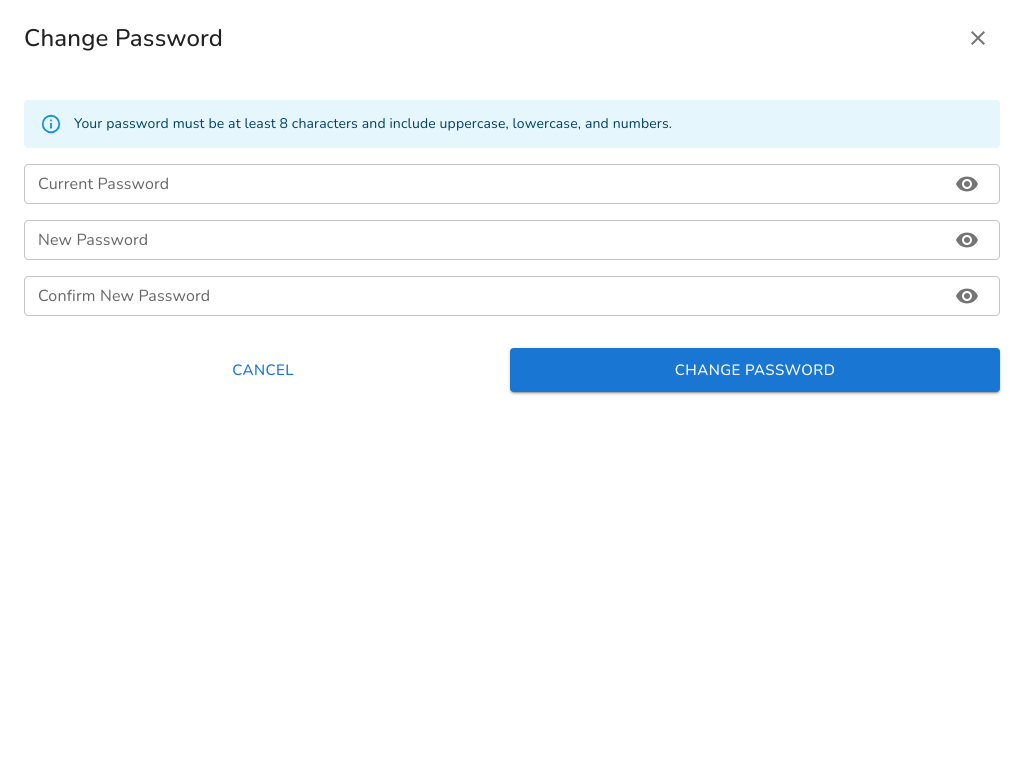
Scenario: ChangePasswordDialog › Mobile Viewport - lines 173-314 › should show mobile-sized CircularProgress when saving - line 314
The width and height of the screenshot is (1024, 768).
Type "OldPass123" into the password field labelled "Current Password" at (480, 184), box [24,164,937,204]
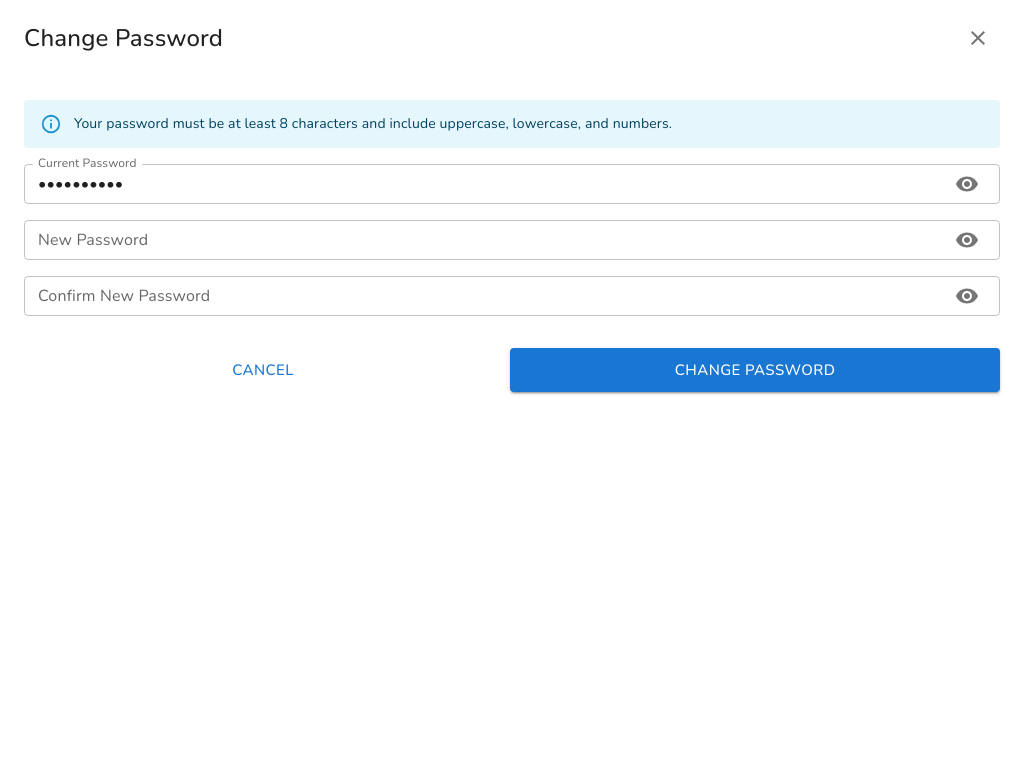
Type "NewPass123" into the password field labelled "New Password" at (480, 240), box [24,220,937,260]
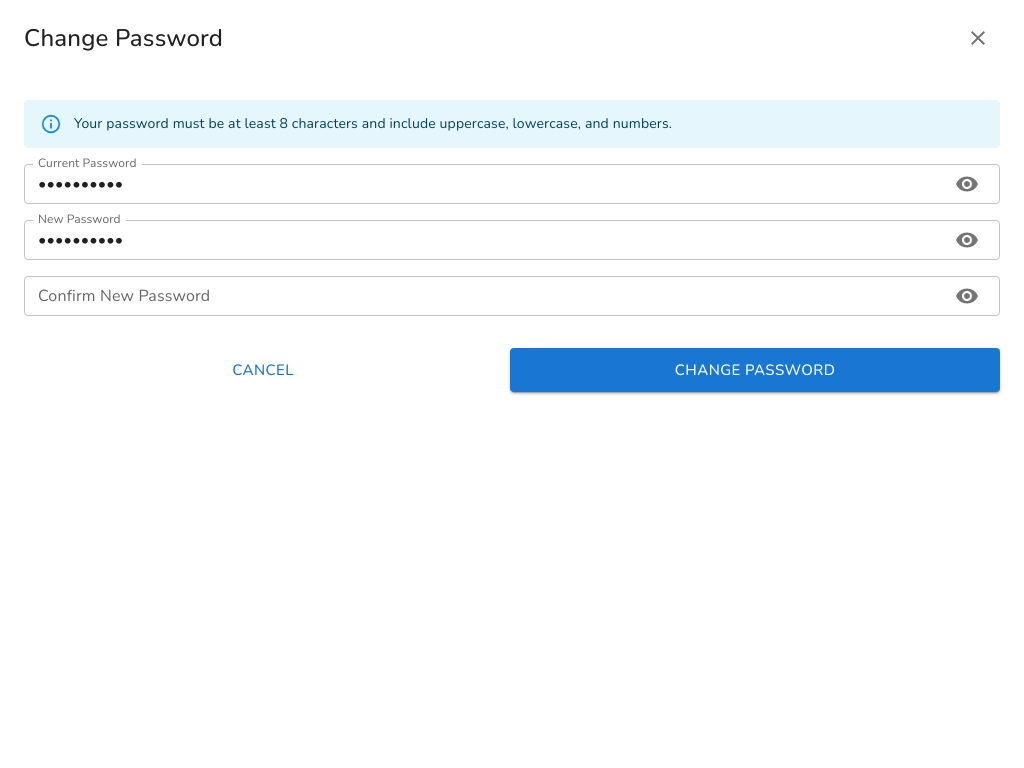
Type "NewPass123" into the password field labelled "Confirm New Password" at (480, 296), box [24,276,937,316]
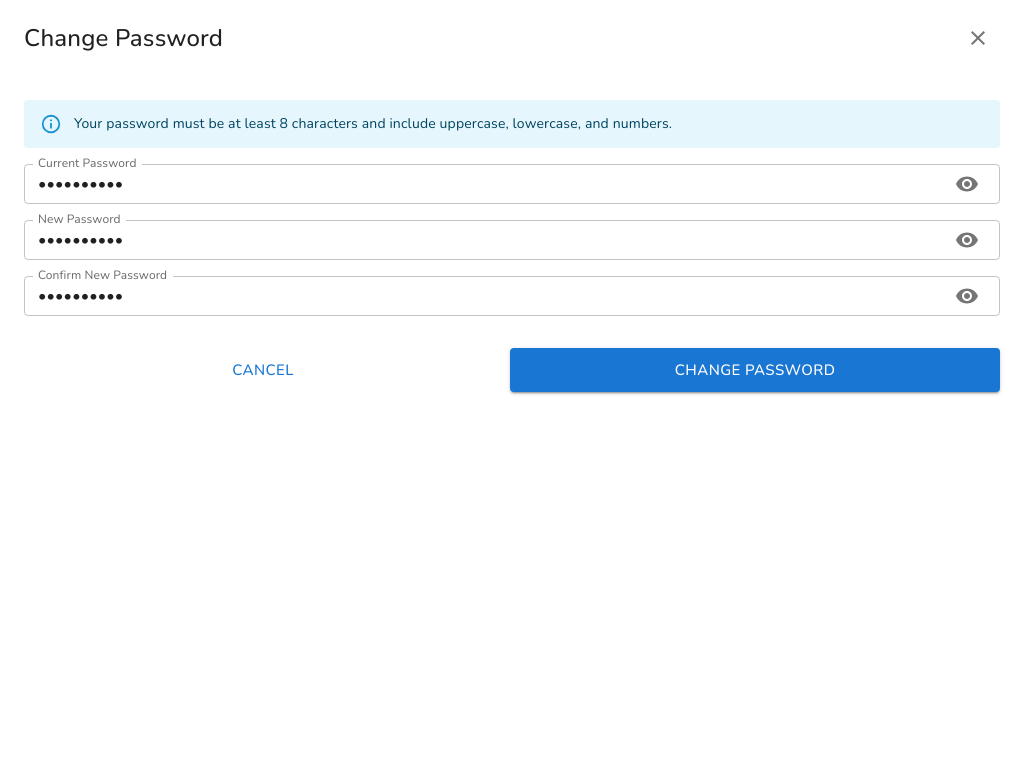
Click the button "Change Password" at (755, 370), box [510,348,1000,392]
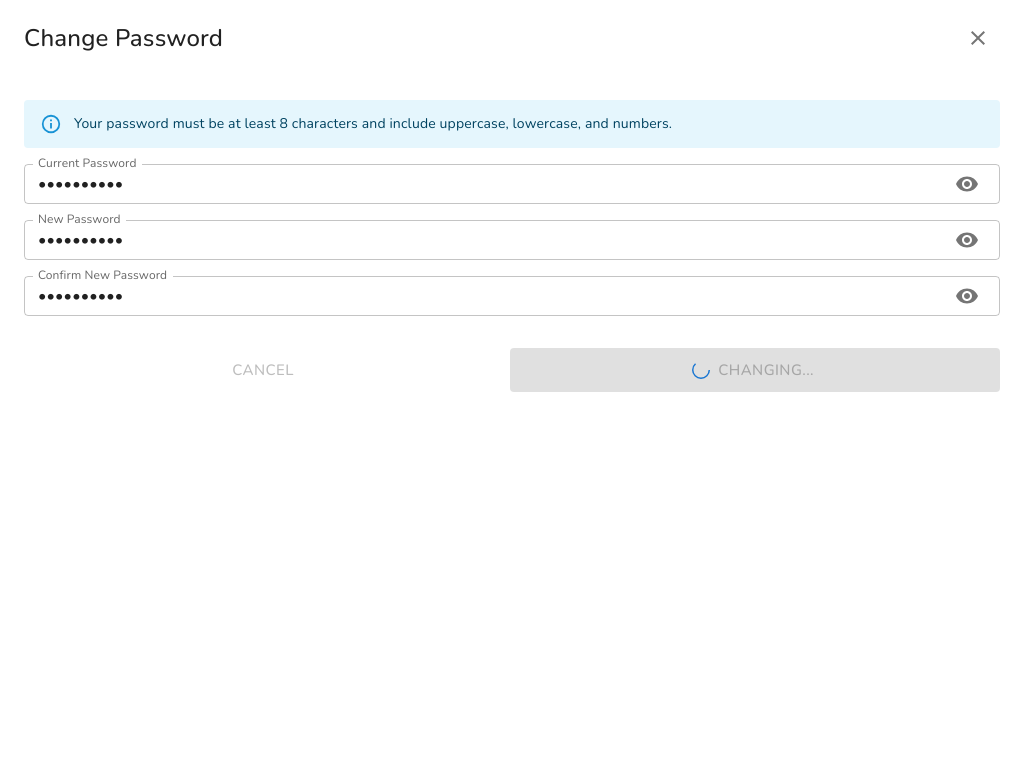
Check: the progress indicator is shown, box [692,361,710,379]
